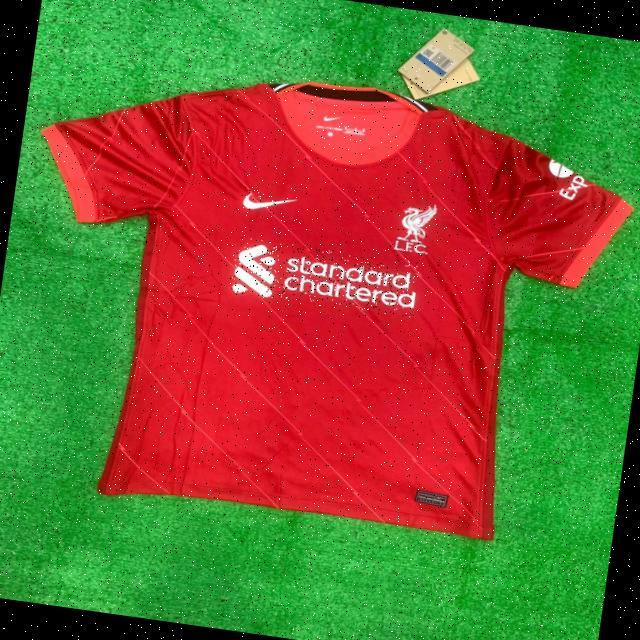Nike: (240, 187, 297, 216)
Standard Chartered: (230, 237, 418, 318)
